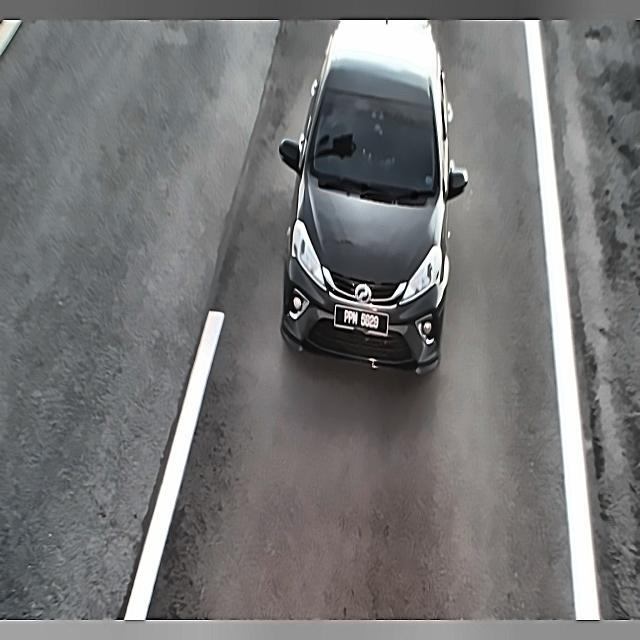car: (332, 304, 392, 343)
